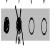correct: (2, 14, 10, 38)
no answer: (40, 14, 48, 39), (28, 15, 35, 38)
not correct: (15, 4, 24, 49)
